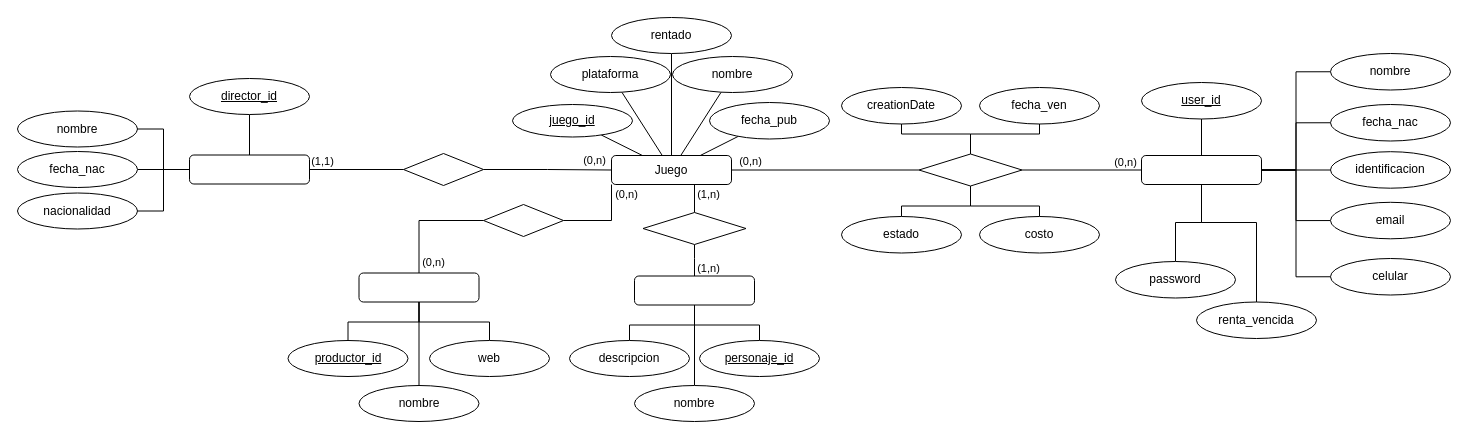
This 1468x447 diagram has some shape labels left out. Here are the shapes that lost their labels. From the top down, the box of each, then its label:
(188, 154, 310, 184): Director
(402, 152, 484, 186): dirigir
(918, 153, 1022, 186): rentar
(1140, 154, 1262, 184): Cliente
(482, 204, 564, 236): producir
(642, 212, 746, 244): protagonizar
(358, 272, 479, 302): Productor
(634, 275, 754, 305): Personaje
